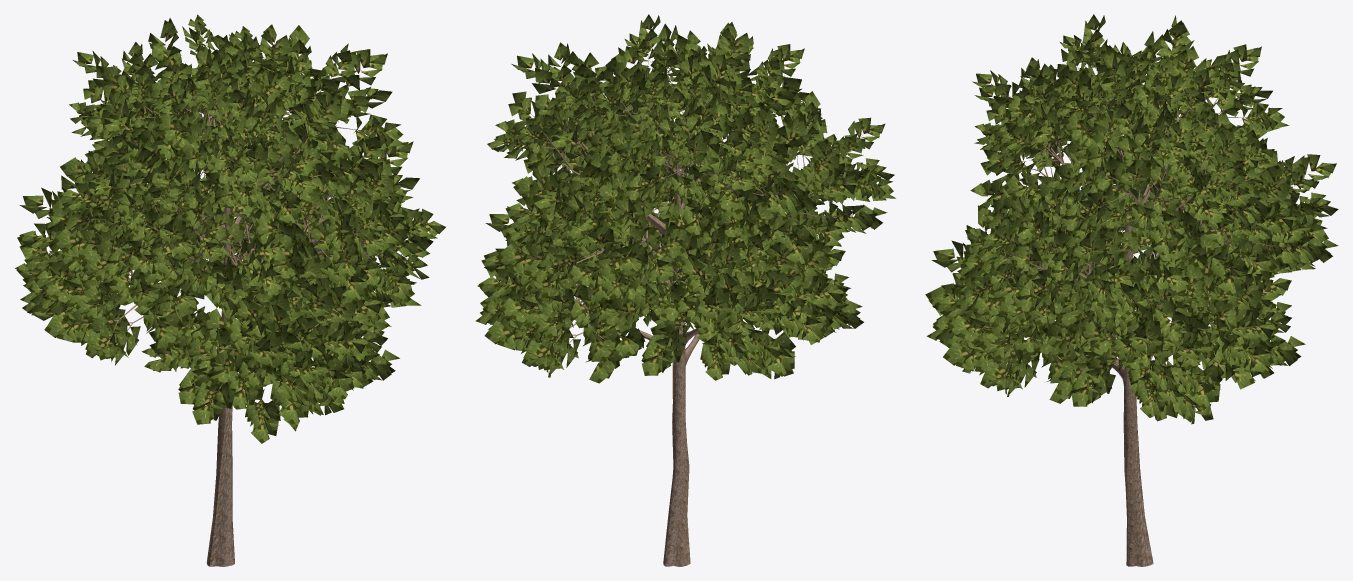
Rendered from SM_Tree_03.fbx.
3 renders of one model, left to right at view 1: azimuth 30°, elevation 25°; view 2: azimuth 150°, elevation 25°; view 3: azimuth 270°, elevation 25°, orthographic.
Parts seen in each view (by area): view 1: SM_Tree_03_LOD0; view 2: SM_Tree_03_LOD0; view 3: SM_Tree_03_LOD0.
Part boxes in pixels (bbox=[...]): SM_Tree_03_LOD0: bbox=[15, 14, 445, 566]; SM_Tree_03_LOD0: bbox=[475, 14, 895, 566]; SM_Tree_03_LOD0: bbox=[925, 14, 1338, 566].
Bounding box in the file's own units: 648 × 633 × 898.
Materials: 2 (2 with a texture image).
